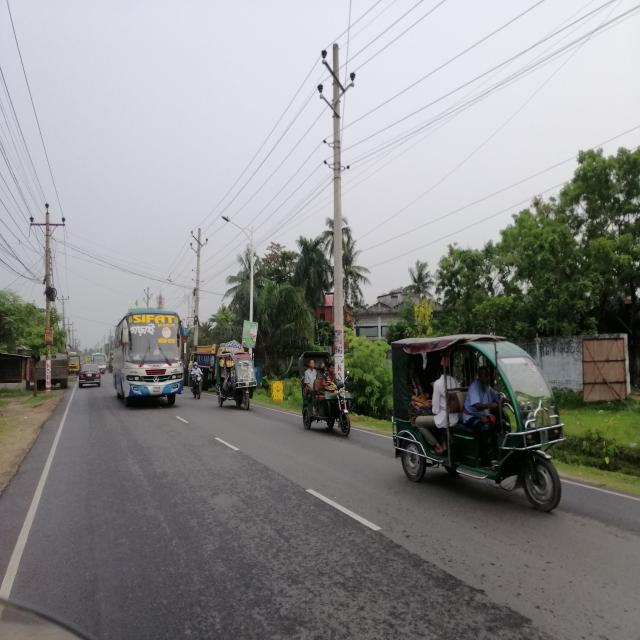Bus: (112, 308, 187, 413)
Car: (80, 362, 103, 389)
Easybike: (380, 321, 571, 513), (216, 345, 260, 413)
Rickshaw: (295, 347, 356, 441)
